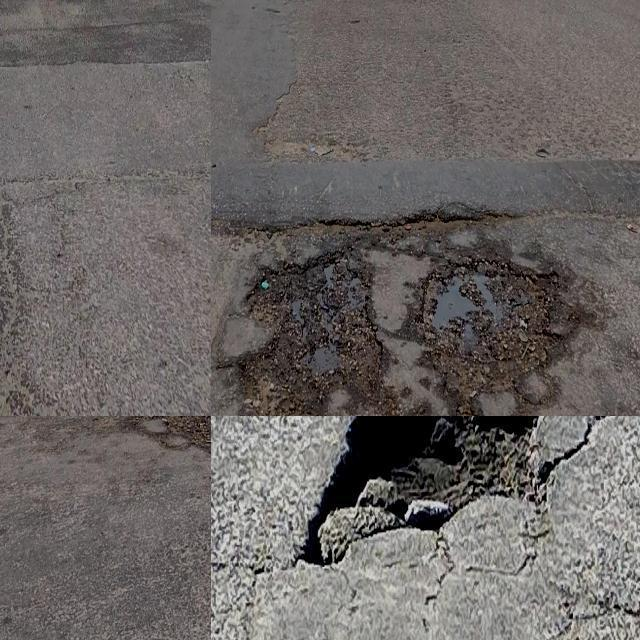Pothole: (300, 416, 560, 563), (237, 241, 388, 416), (412, 255, 568, 405)
